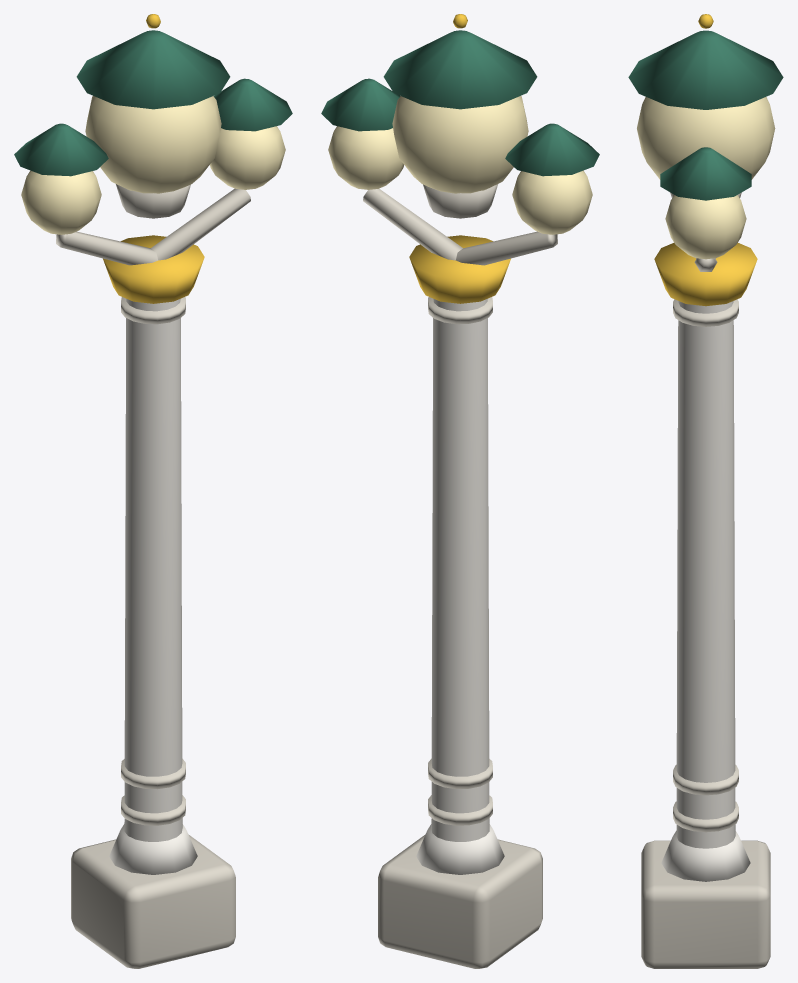
File: lamp_grand_b.glb
The picture shows the model from 3 angles, left to right: view 1: azimuth 30°, elevation 25°; view 2: azimuth 150°, elevation 25°; view 3: azimuth 270°, elevation 25°; orthographic projection.
Bounding box in the file's own units: 1.68 × 5.57 × 0.8401.
